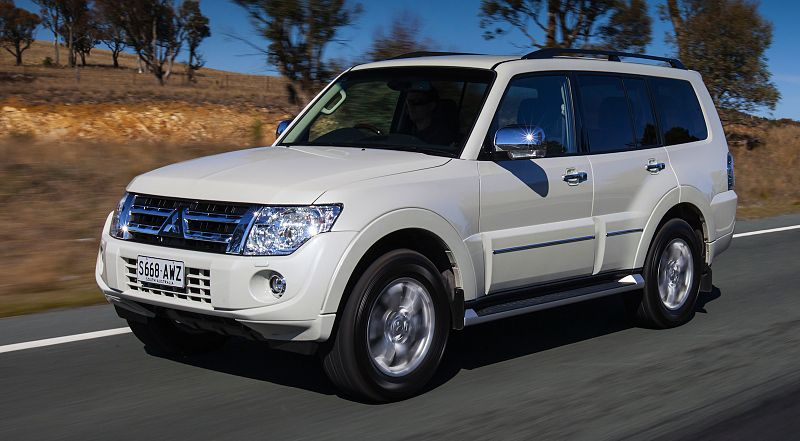pickup: (92, 45, 742, 403)
